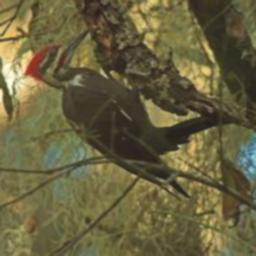Woodpecker: (23, 28, 196, 201)
